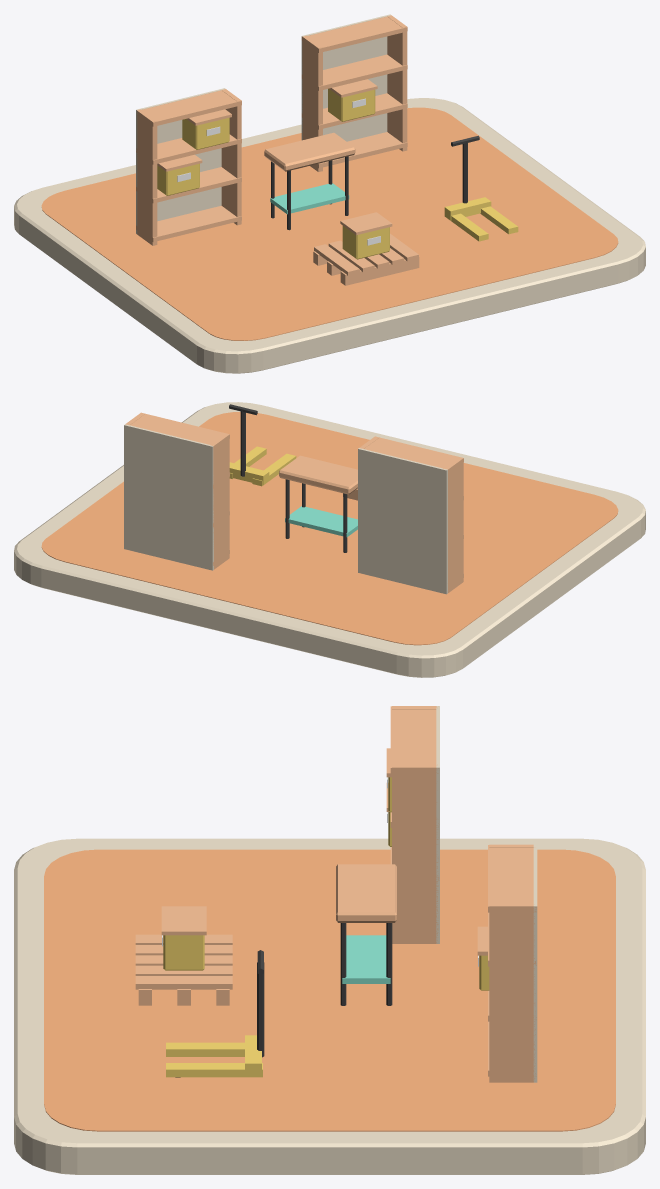
The model's file is room.fbx.
The picture shows the model from 3 angles, top to bottom: view 1: azimuth 30°, elevation 25°; view 2: azimuth 150°, elevation 25°; view 3: azimuth 270°, elevation 25°; orthographic projection. The views are drawn at different scales.
Visible parts, largest first — view 1: COM-02 Floor Surface, COM-01 Rounded Base Direct, Back.001, Back, Side, Worktop, Side.002, Side.003, Shelf.003, Shelf.007, Side.001, Shelf (+14 smaller); view 2: COM-02 Floor Surface, COM-01 Rounded Base Direct, Back, Back.001, Side.002, Worktop, Side, Shelf.003, Shelf.007, Lower shelf, Fork chassis, Fork; view 3: COM-02 Floor Surface, COM-01 Rounded Base Direct, Side.003, Side.001, Worktop, Shelf.003, Shelf.007, Lower shelf, Box.003, Lid.003, Deck board.004, Fork.001 (+5 smaller).
Part boxes in pixels (left/top/right/bottom): COM-02 Floor Surface: left=41, top=107, right=618, bottom=340; COM-01 Rounded Base Direct: left=14, top=98, right=645, bottom=373; Back.001: left=301, top=14, right=390, bottom=141; Back: left=136, top=88, right=225, bottom=234; Side: left=137, top=109, right=157, bottom=245; Worktop: left=264, top=132, right=355, bottom=171; Side.002: left=302, top=35, right=322, bottom=171; Side.003: left=387, top=15, right=407, bottom=151; Shelf.003: left=137, top=90, right=241, bottom=126; Shelf.007: left=301, top=16, right=407, bottom=52; Side.001: left=221, top=89, right=241, bottom=225; Shelf: left=136, top=205, right=241, bottom=242; COM-02 Floor Surface: left=41, top=412, right=618, bottom=645; COM-01 Rounded Base Direct: left=14, top=402, right=645, bottom=677; Back: left=358, top=448, right=447, bottom=594; Back.001: left=124, top=424, right=213, bottom=570; Side.002: left=210, top=433, right=229, bottom=569; Worktop: left=279, top=455, right=357, bottom=494; Side: left=443, top=457, right=463, bottom=593; Shelf.003: left=364, top=436, right=463, bottom=473; Shelf.007: left=130, top=412, right=229, bottom=446; Lower shelf: left=285, top=506, right=357, bottom=537; Fork chassis: left=229, top=462, right=269, bottom=485; Fork: left=252, top=453, right=296, bottom=486; COM-02 Floor Surface: left=44, top=849, right=615, bottom=1131; COM-01 Rounded Base Direct: left=14, top=838, right=645, bottom=1174; Side.003: left=489, top=903, right=535, bottom=1082; Side.001: left=392, top=764, right=438, bottom=943; Worktop: left=336, top=864, right=396, bottom=922; Shelf.003: left=390, top=706, right=438, bottom=773; Shelf.007: left=488, top=845, right=536, bottom=912; Lower shelf: left=342, top=935, right=390, bottom=983; Box.003: left=163, top=935, right=204, bottom=970; Lid.003: left=161, top=906, right=206, bottom=935; Deck board.004: left=135, top=976, right=232, bottom=989; Fork.001: left=166, top=1063, right=262, bottom=1077.
Bounding box in the file's own units: 600 × 190 × 520.
